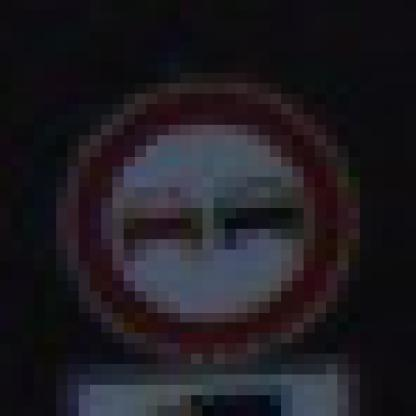No Overtaking: (57, 53, 361, 365)
